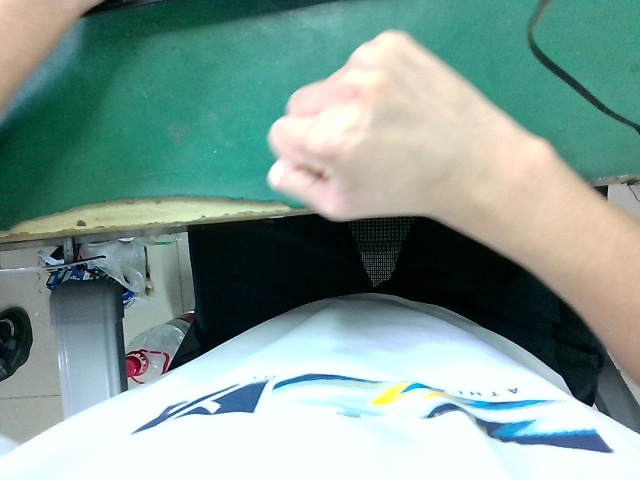stone: (257, 15, 542, 255)
